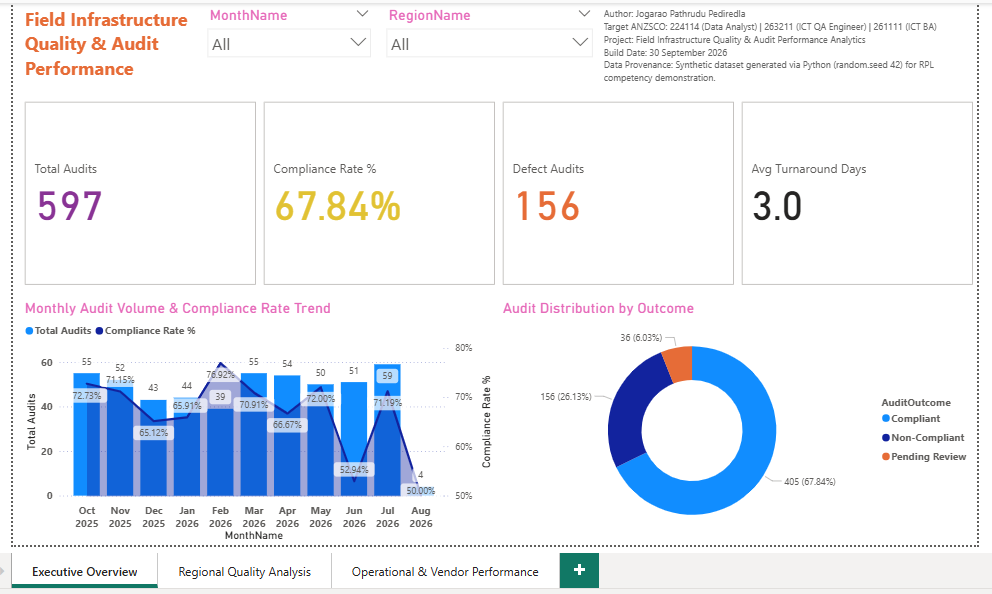

This screenshot's page, from the dashboard's own definition file:
{"tool":"powerbi","page":{"name":"Executive Overview","canvas":[1280,720],"ordinal":0},"visuals":[{"type":"textbox","box":[10,0,280,280],"z":0},{"type":"slicer","fields":{"Values":["Dim_Date.MonthName"]},"box":[248.6,0,278.8,280.5],"z":1000},{"type":"slicer","fields":{"Values":["dim_regions.RegionName"]},"box":[527.5,0,300.7,300.7],"z":2000},{"type":"cardVisual","fields":{"Data":["_Measures.Compliance Rate %"]},"box":[327.6,126,317.5,253.6],"z":3000},{"type":"cardVisual","fields":{"Data":["_Measures.Defect Audits"]},"box":[645,126,317.5,253.6],"z":4000},{"type":"cardVisual","fields":{"Data":["_Measures.Avg Turnaround Days"]},"box":[962.5,126,317.5,253.6],"z":5000},{"type":"cardVisual","fields":{"Data":["_Measures.Total Audits"]},"box":[10.1,126,317.5,253.6],"z":6000},{"type":"lineClusteredColumnComboChart","title":"Monthly Audit Volume & Compliance Rate Trend","fields":{"Category":["Dim_Date.MonthName"],"Y":["_Measures.Total Audits"],"Y2":["_Measures.Compliance Rate %"]},"box":[10.1,393.1,629.9,327.6],"z":7000},{"type":"donutChart","title":"Audit Distribution by Outcome","fields":{"Y":["_Measures.Total Audits"],"Category":["fact_audits.AuditOutcome"]},"box":[645,393.1,635,327.6],"z":8000},{"type":"textbox","box":[826.8,0,434.6,125.9],"z":8001}]}

Visuals, with their boxes on the page's 1280x720 design canvas (x1, y1, x2, y2). These are canvas units, not pixel positions in the 992x594 screenshot, which may show the page scaled, cropped or inside an application window:
textbox: <bbox>10, 0, 290, 280</bbox>
slicer - Dim_Date.MonthName: <bbox>249, 0, 527, 280</bbox>
slicer - dim_regions.RegionName: <bbox>528, 0, 828, 301</bbox>
cardVisual - _Measures.Compliance Rate %: <bbox>328, 126, 645, 380</bbox>
cardVisual - _Measures.Defect Audits: <bbox>645, 126, 962, 380</bbox>
cardVisual - _Measures.Avg Turnaround Days: <bbox>962, 126, 1280, 380</bbox>
cardVisual - _Measures.Total Audits: <bbox>10, 126, 328, 380</bbox>
"Monthly Audit Volume & Compliance Rate Trend" lineClusteredColumnComboChart: <bbox>10, 393, 640, 721</bbox>
"Audit Distribution by Outcome" donutChart: <bbox>645, 393, 1280, 721</bbox>
textbox: <bbox>827, 0, 1261, 126</bbox>
